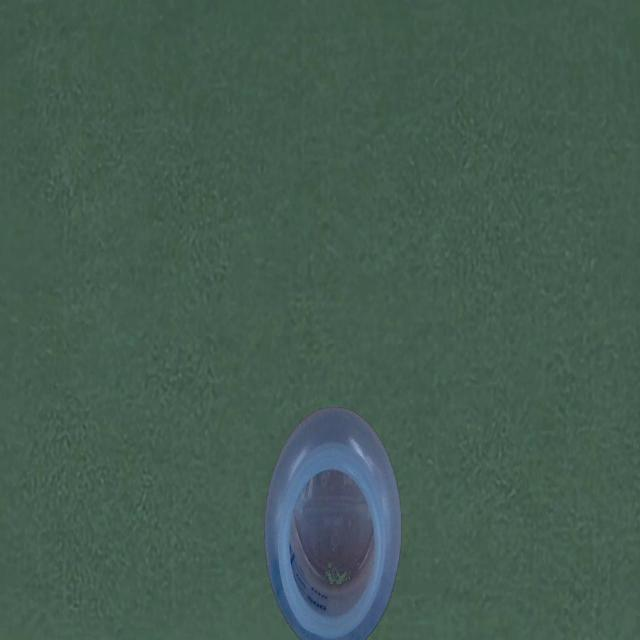bottle: (261, 399, 405, 640)
